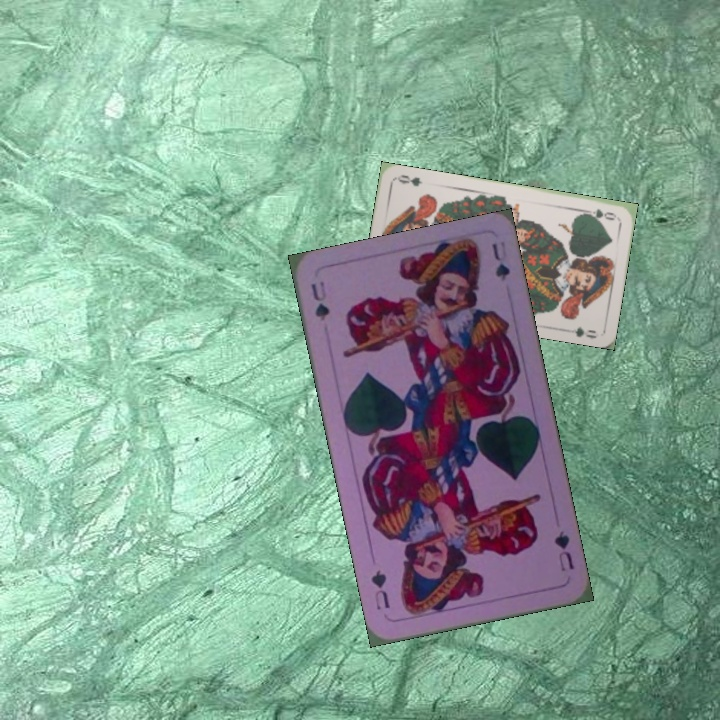GO: (579, 205, 619, 223)
GU: (550, 526, 576, 574), (307, 277, 332, 324)
